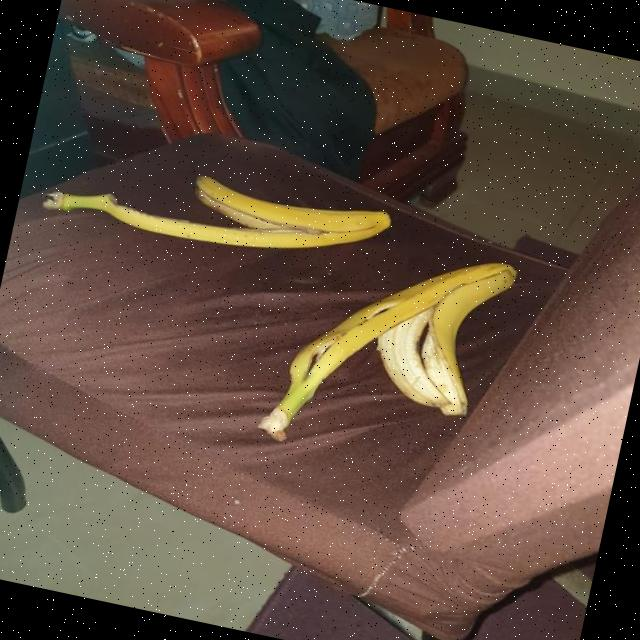banana-peel: (253, 217, 520, 482), (40, 139, 393, 281)
